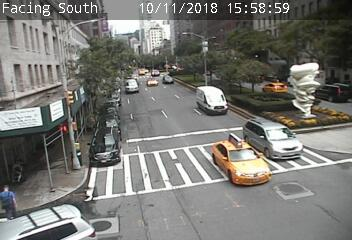car: (211, 140, 272, 186), (244, 118, 303, 161), (196, 86, 227, 114), (146, 78, 158, 86), (163, 75, 173, 84), (151, 70, 159, 76)
